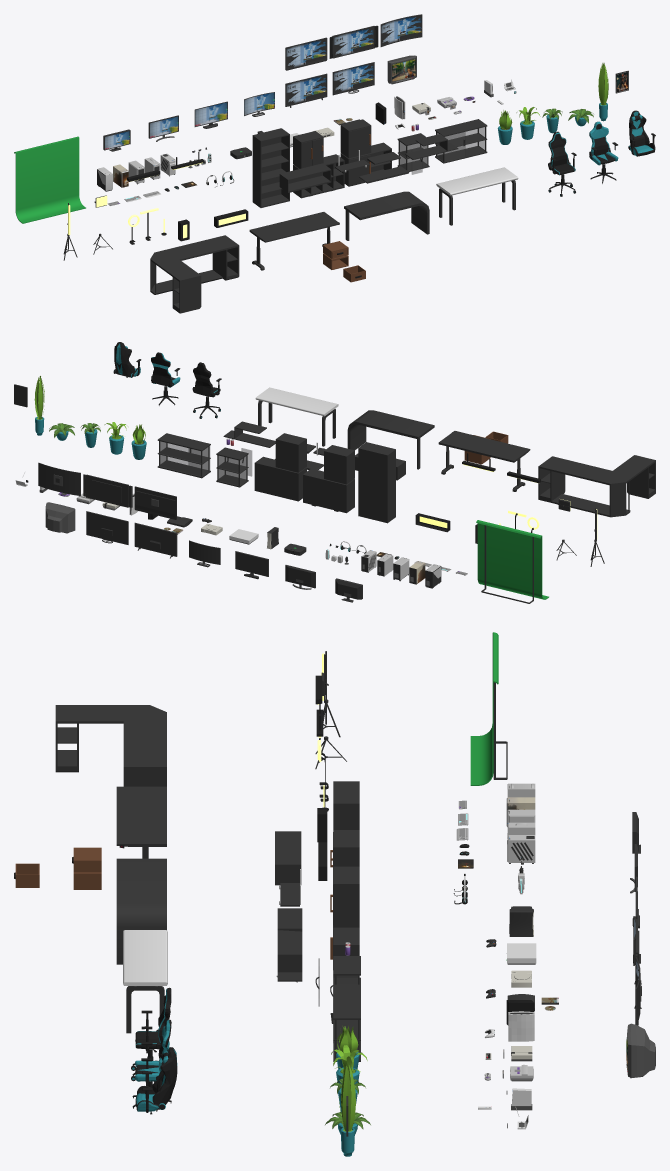
Rendered from Gaming Set.fbx.
3 views of the same model, one above another, from view 1: azimuth 30°, elevation 25°; view 2: azimuth 150°, elevation 25°; view 3: azimuth 270°, elevation 25° (orthographic). The views are drawn at different scales.
Visible parts, largest first — view 1: Green Screen, Desk L, Simple Library, Desk Modern, Desk Alter, Desk Mechanical Top, Expositor 2x1 A, TV 5 Mounted, Wall Shelf 1, TV 2, TV 1, TV 4 Mounted (+17 smaller); view 2: Desk L, Green Screen, Simple Library, Desk Modern, Expositor 2x1 C, Desk Alter, Expositor 2x1 B, Expositor 2x1 A, Desk Mechanical Top, TV 5 Mounted, Expositor 2x1 Glass, TV 1 (+20 smaller); view 3: Desk L, Desk Modern, Desk Mechanical Top, Desk Alter, Green Screen, Expositor 1x1 B, Expositor 2x1 A, Wall Shelf 1, TV Old, Simple Library, Wall Shelf 4, Plant 5 (+7 smaller).
Boxes of the visible parts, <box> form: Green Screen: <box>14,136,85,223</box>; Desk L: <box>150,235,239,313</box>; Simple Library: <box>252,128,289,207</box>; Desk Modern: <box>344,191,429,240</box>; Desk Alter: <box>436,167,518,225</box>; Desk Mechanical Top: <box>249,212,339,247</box>; Expositor 2x1 A: <box>435,119,487,163</box>; TV 5 Mounted: <box>329,25,378,58</box>; Wall Shelf 1: <box>279,163,331,192</box>; TV 2: <box>332,62,374,95</box>; TV 1: <box>285,73,327,107</box>; TV 4 Mounted: <box>285,37,327,70</box>; Desk L: <box>538,455,655,517</box>; Green Screen: <box>476,520,548,603</box>; Simple Library: <box>358,442,395,523</box>; Desk Modern: <box>347,410,434,469</box>; Expositor 2x1 C: <box>303,468,354,513</box>; Desk Alter: <box>255,387,338,446</box>; Expositor 2x1 B: <box>254,456,306,501</box>; Expositor 2x1 A: <box>157,433,210,478</box>; Desk Mechanical Top: <box>438,431,530,469</box>; TV 5 Mounted: <box>83,474,132,507</box>; Expositor 2x1 Glass: <box>160,441,208,475</box>; TV 1: <box>134,522,177,558</box>; Desk L: <box>55,705,166,786</box>; Desk Modern: <box>116,858,166,964</box>; Desk Mechanical Top: <box>116,786,166,858</box>; Desk Alter: <box>123,930,167,1033</box>; Green Screen: <box>470,632,507,785</box>; Expositor 1x1 B: <box>333,866,359,927</box>; Expositor 2x1 A: <box>333,984,360,1061</box>; Wall Shelf 1: <box>275,831,301,885</box>; TV Old: <box>626,1023,655,1078</box>; Simple Library: <box>333,781,359,829</box>; Wall Shelf 4: <box>277,935,302,981</box>; Plant 5: <box>339,1064,355,1156</box>.
Size of the model in its own units: 1811 by 255 by 1110.
